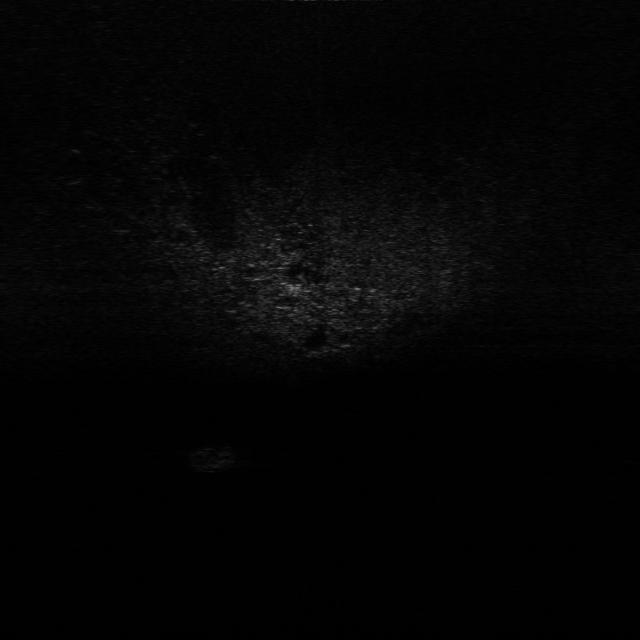circle cage: (186, 442, 246, 478)
